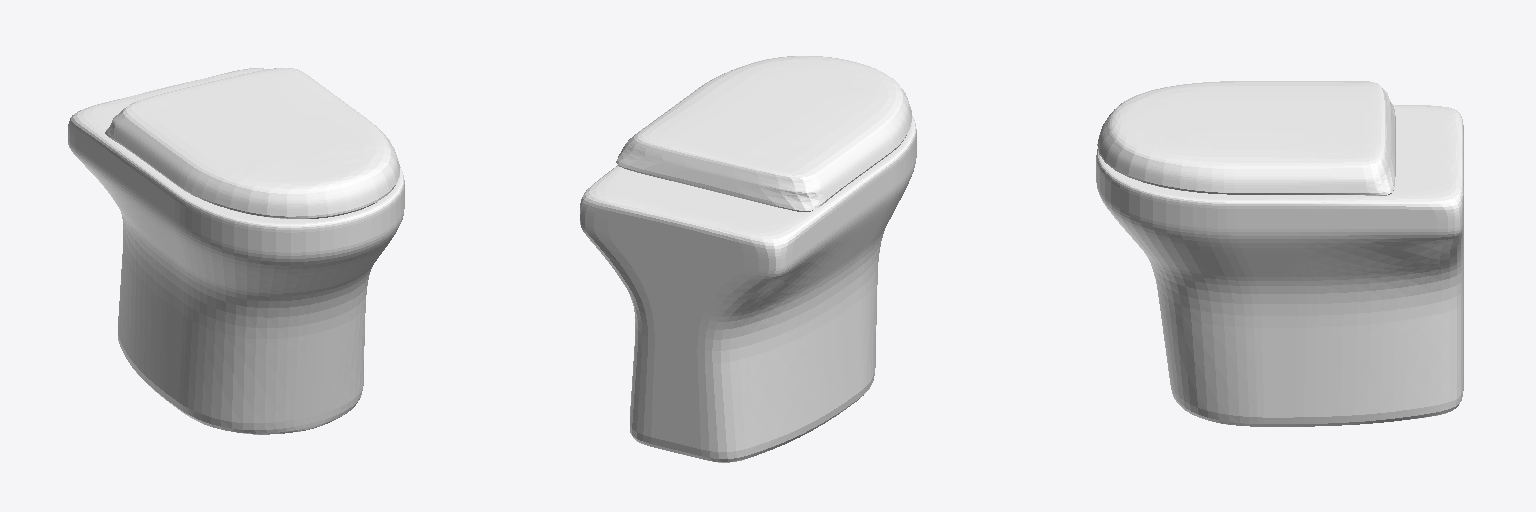
File: toilet.obj
3 views of the same model, side by side, from view 1: azimuth 30°, elevation 25°; view 2: azimuth 150°, elevation 25°; view 3: azimuth 270°, elevation 25° (orthographic).
Parts seen in each view (by area): view 1: Rectangle03_2, Rectangle04_1; view 2: Rectangle03_2, Rectangle04_1; view 3: Rectangle03_2, Rectangle04_1.
Part boxes in pixels (left/top/right/bottom): Rectangle03_2: left=68, top=68, right=404, bottom=434; Rectangle04_1: left=105, top=68, right=399, bottom=218; Rectangle03_2: left=580, top=116, right=916, bottom=462; Rectangle04_1: left=616, top=56, right=911, bottom=211; Rectangle03_2: left=1096, top=105, right=1463, bottom=426; Rectangle04_1: left=1097, top=81, right=1395, bottom=195.
Size of the model in its own units: 36 by 45.25 by 55.73.